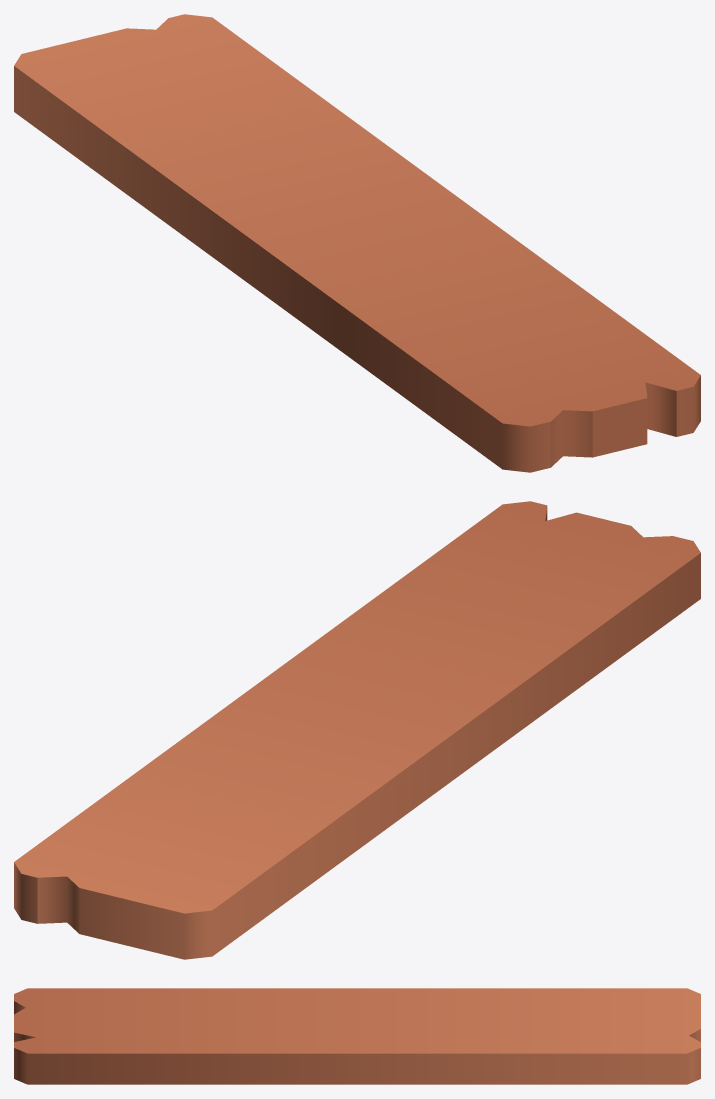
The model's file is mini-skate--plank.glb.
The picture shows the model from 3 angles, top to bottom: view 1: azimuth 30°, elevation 25°; view 2: azimuth 150°, elevation 25°; view 3: azimuth 270°, elevation 25°; orthographic projection. The views are drawn at different scales.
Parts seen in each view (by area): view 1: plank; view 2: plank; view 3: plank.
Boxes of the visible parts, x1,y1,x2,y2 form: plank: (14,14,700,472); plank: (14,501,700,959); plank: (14,988,700,1084).
Bounding box in the file's own units: 0.225 × 0.05 × 1.
Materials: 1 (1 with a texture image).
